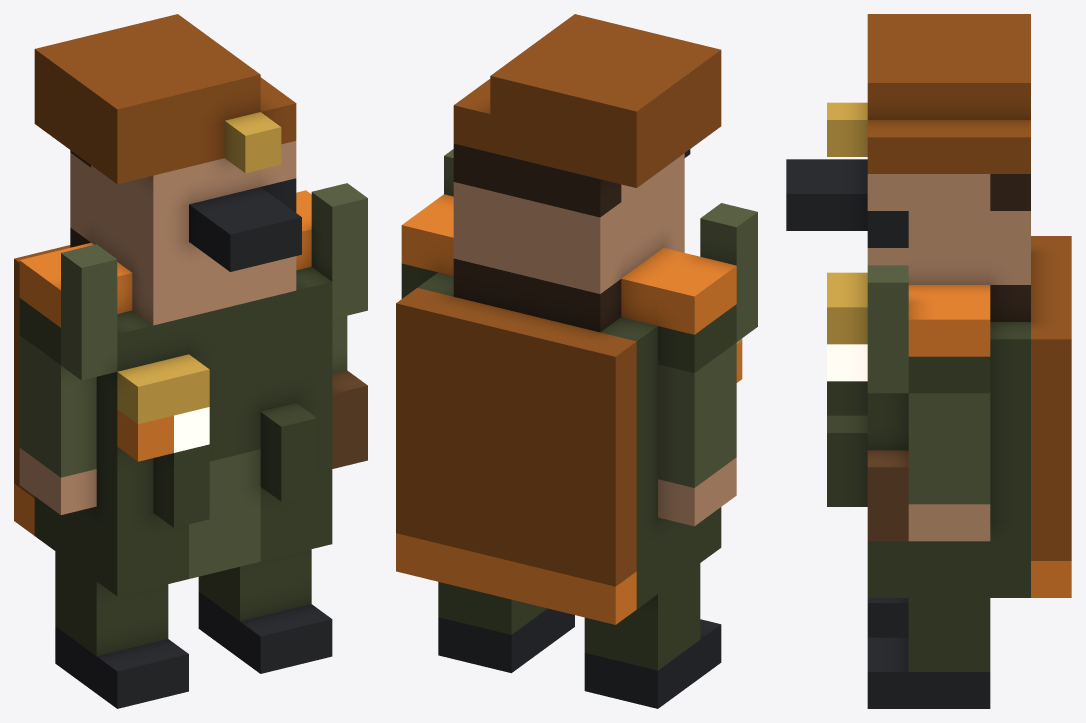
File: cm_hero_5.glb
3 views of the same model, side by side, from view 1: azimuth 30°, elevation 25°; view 2: azimuth 150°, elevation 25°; view 3: azimuth 270°, elevation 25° (orthographic). The views are drawn at different scales.
Parts seen in each view (by area): view 1: cm_hero_5_body; view 2: cm_hero_5_body; view 3: cm_hero_5_body.
Part boxes in pixels (x1,y1,x2,y2): cm_hero_5_body: (14,14,367,708); cm_hero_5_body: (396,14,757,708); cm_hero_5_body: (786,14,1071,708).
Bounding box in the file's own units: 0.5 × 1 × 0.4375.
1 material, 1 textured.
